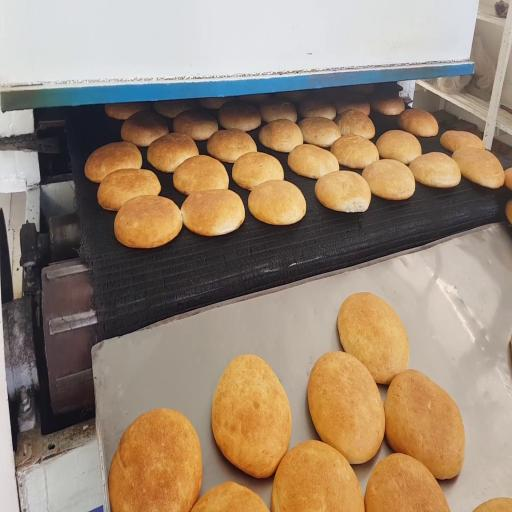bread: (212, 355, 291, 478), (108, 409, 202, 511), (385, 370, 465, 479), (308, 351, 385, 464), (271, 440, 364, 511), (338, 293, 409, 384), (365, 454, 449, 511), (114, 196, 182, 248), (181, 190, 245, 236), (248, 180, 306, 225), (98, 169, 161, 210), (315, 171, 371, 212), (85, 142, 142, 182), (192, 482, 268, 511), (173, 156, 229, 195), (452, 147, 504, 188), (362, 160, 415, 200), (147, 133, 198, 172), (232, 152, 283, 190), (410, 152, 461, 188), (207, 129, 257, 163), (288, 145, 339, 178), (121, 111, 169, 146), (331, 135, 379, 169), (376, 130, 421, 164), (259, 119, 303, 152), (173, 110, 218, 140), (298, 118, 341, 148), (218, 101, 261, 131), (335, 110, 375, 139), (398, 109, 438, 137), (440, 131, 485, 152), (299, 94, 335, 120), (260, 97, 297, 122), (153, 99, 196, 119), (104, 102, 150, 120), (335, 96, 370, 116), (370, 96, 404, 115), (474, 498, 511, 511), (275, 90, 309, 103), (199, 97, 233, 109), (239, 93, 271, 105), (350, 84, 375, 94), (505, 168, 511, 190), (506, 200, 511, 224)
